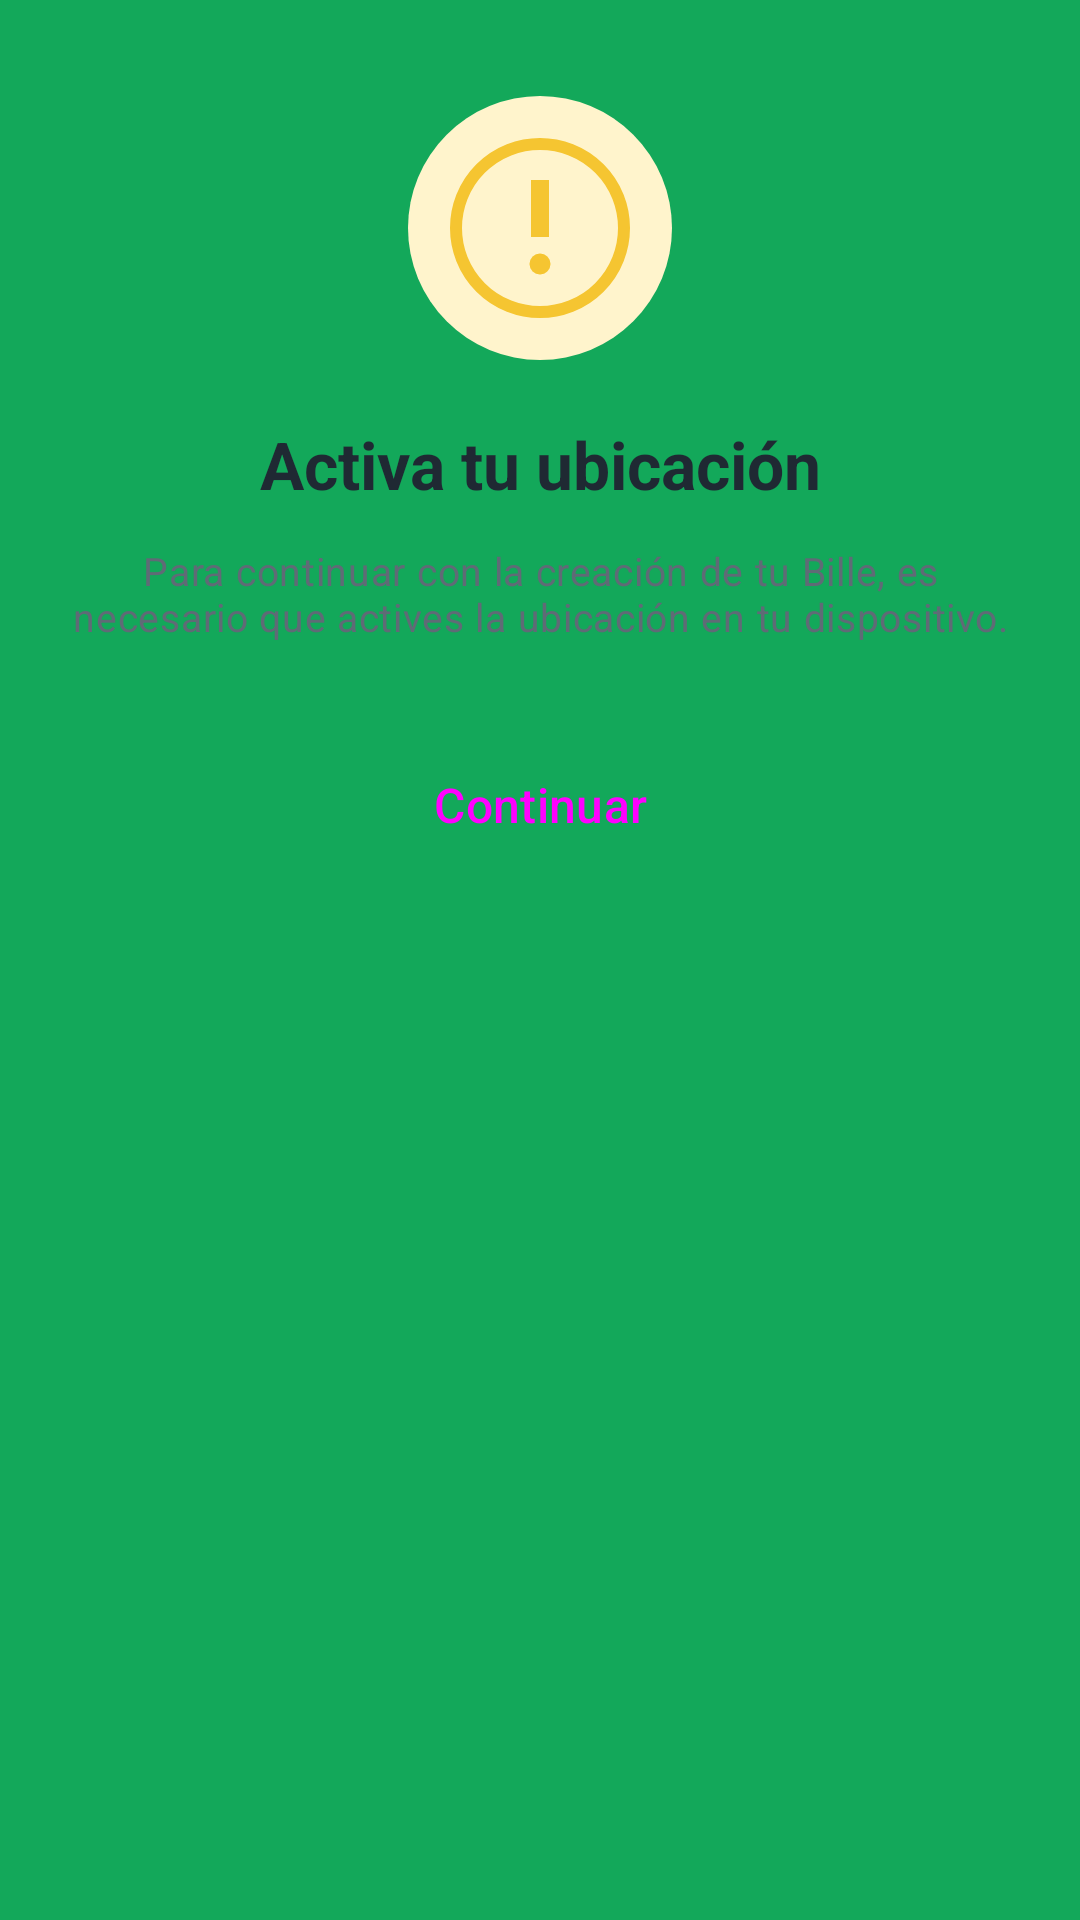

Where to tap for icons on this 1080px×1920px app screen, as (x,y):
warning circle: (540,228)
